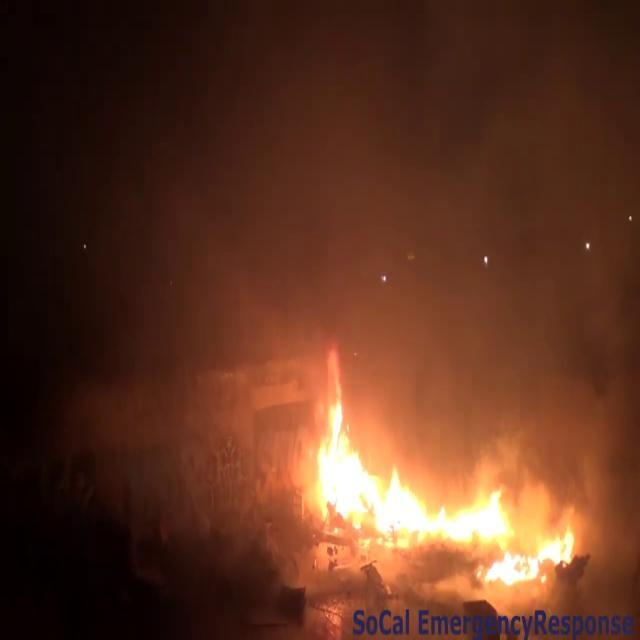Fire: (298, 364, 574, 586)
Smoke: (55, 0, 640, 476)
